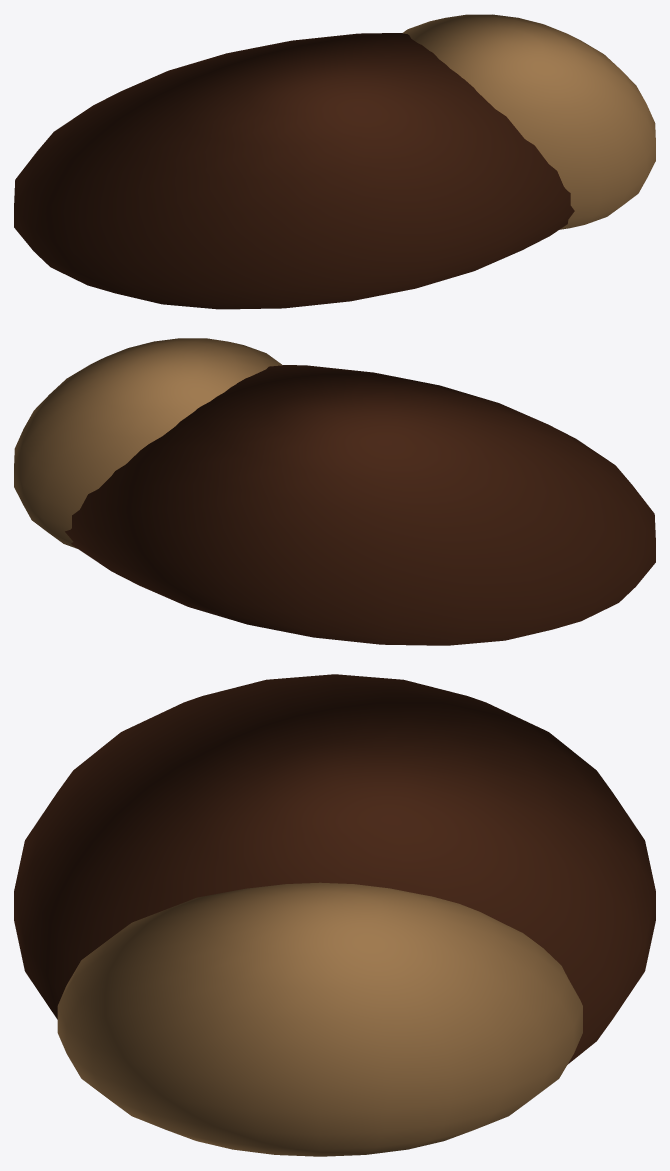
Rendered from cooked_meat.glb.
3 renders of one model, top to bottom at view 1: azimuth 30°, elevation 25°; view 2: azimuth 150°, elevation 25°; view 3: azimuth 270°, elevation 25°, orthographic. The views are drawn at different scales.
Parts seen in each view (by area): view 1: BatchedSurface, _MeshInstance3D_3; view 2: BatchedSurface, _MeshInstance3D_3; view 3: BatchedSurface, _MeshInstance3D_3.
Part boxes in pixels (x1,y1,x2,y2): BatchedSurface: (14, 33, 574, 309); _MeshInstance3D_3: (402, 14, 655, 229); BatchedSurface: (65, 365, 655, 645); _MeshInstance3D_3: (14, 338, 282, 548); BatchedSurface: (14, 674, 655, 1064); _MeshInstance3D_3: (57, 882, 582, 1156).
Bounding box in the file's own units: 0.3234 × 0.091 × 0.2184.
